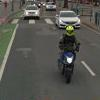Motorcycle: (51, 25, 91, 95)
